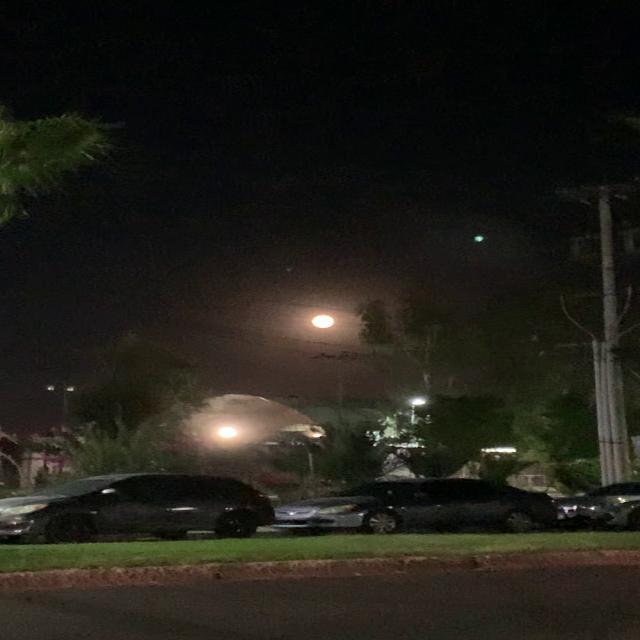moon: (308, 312, 337, 329)
